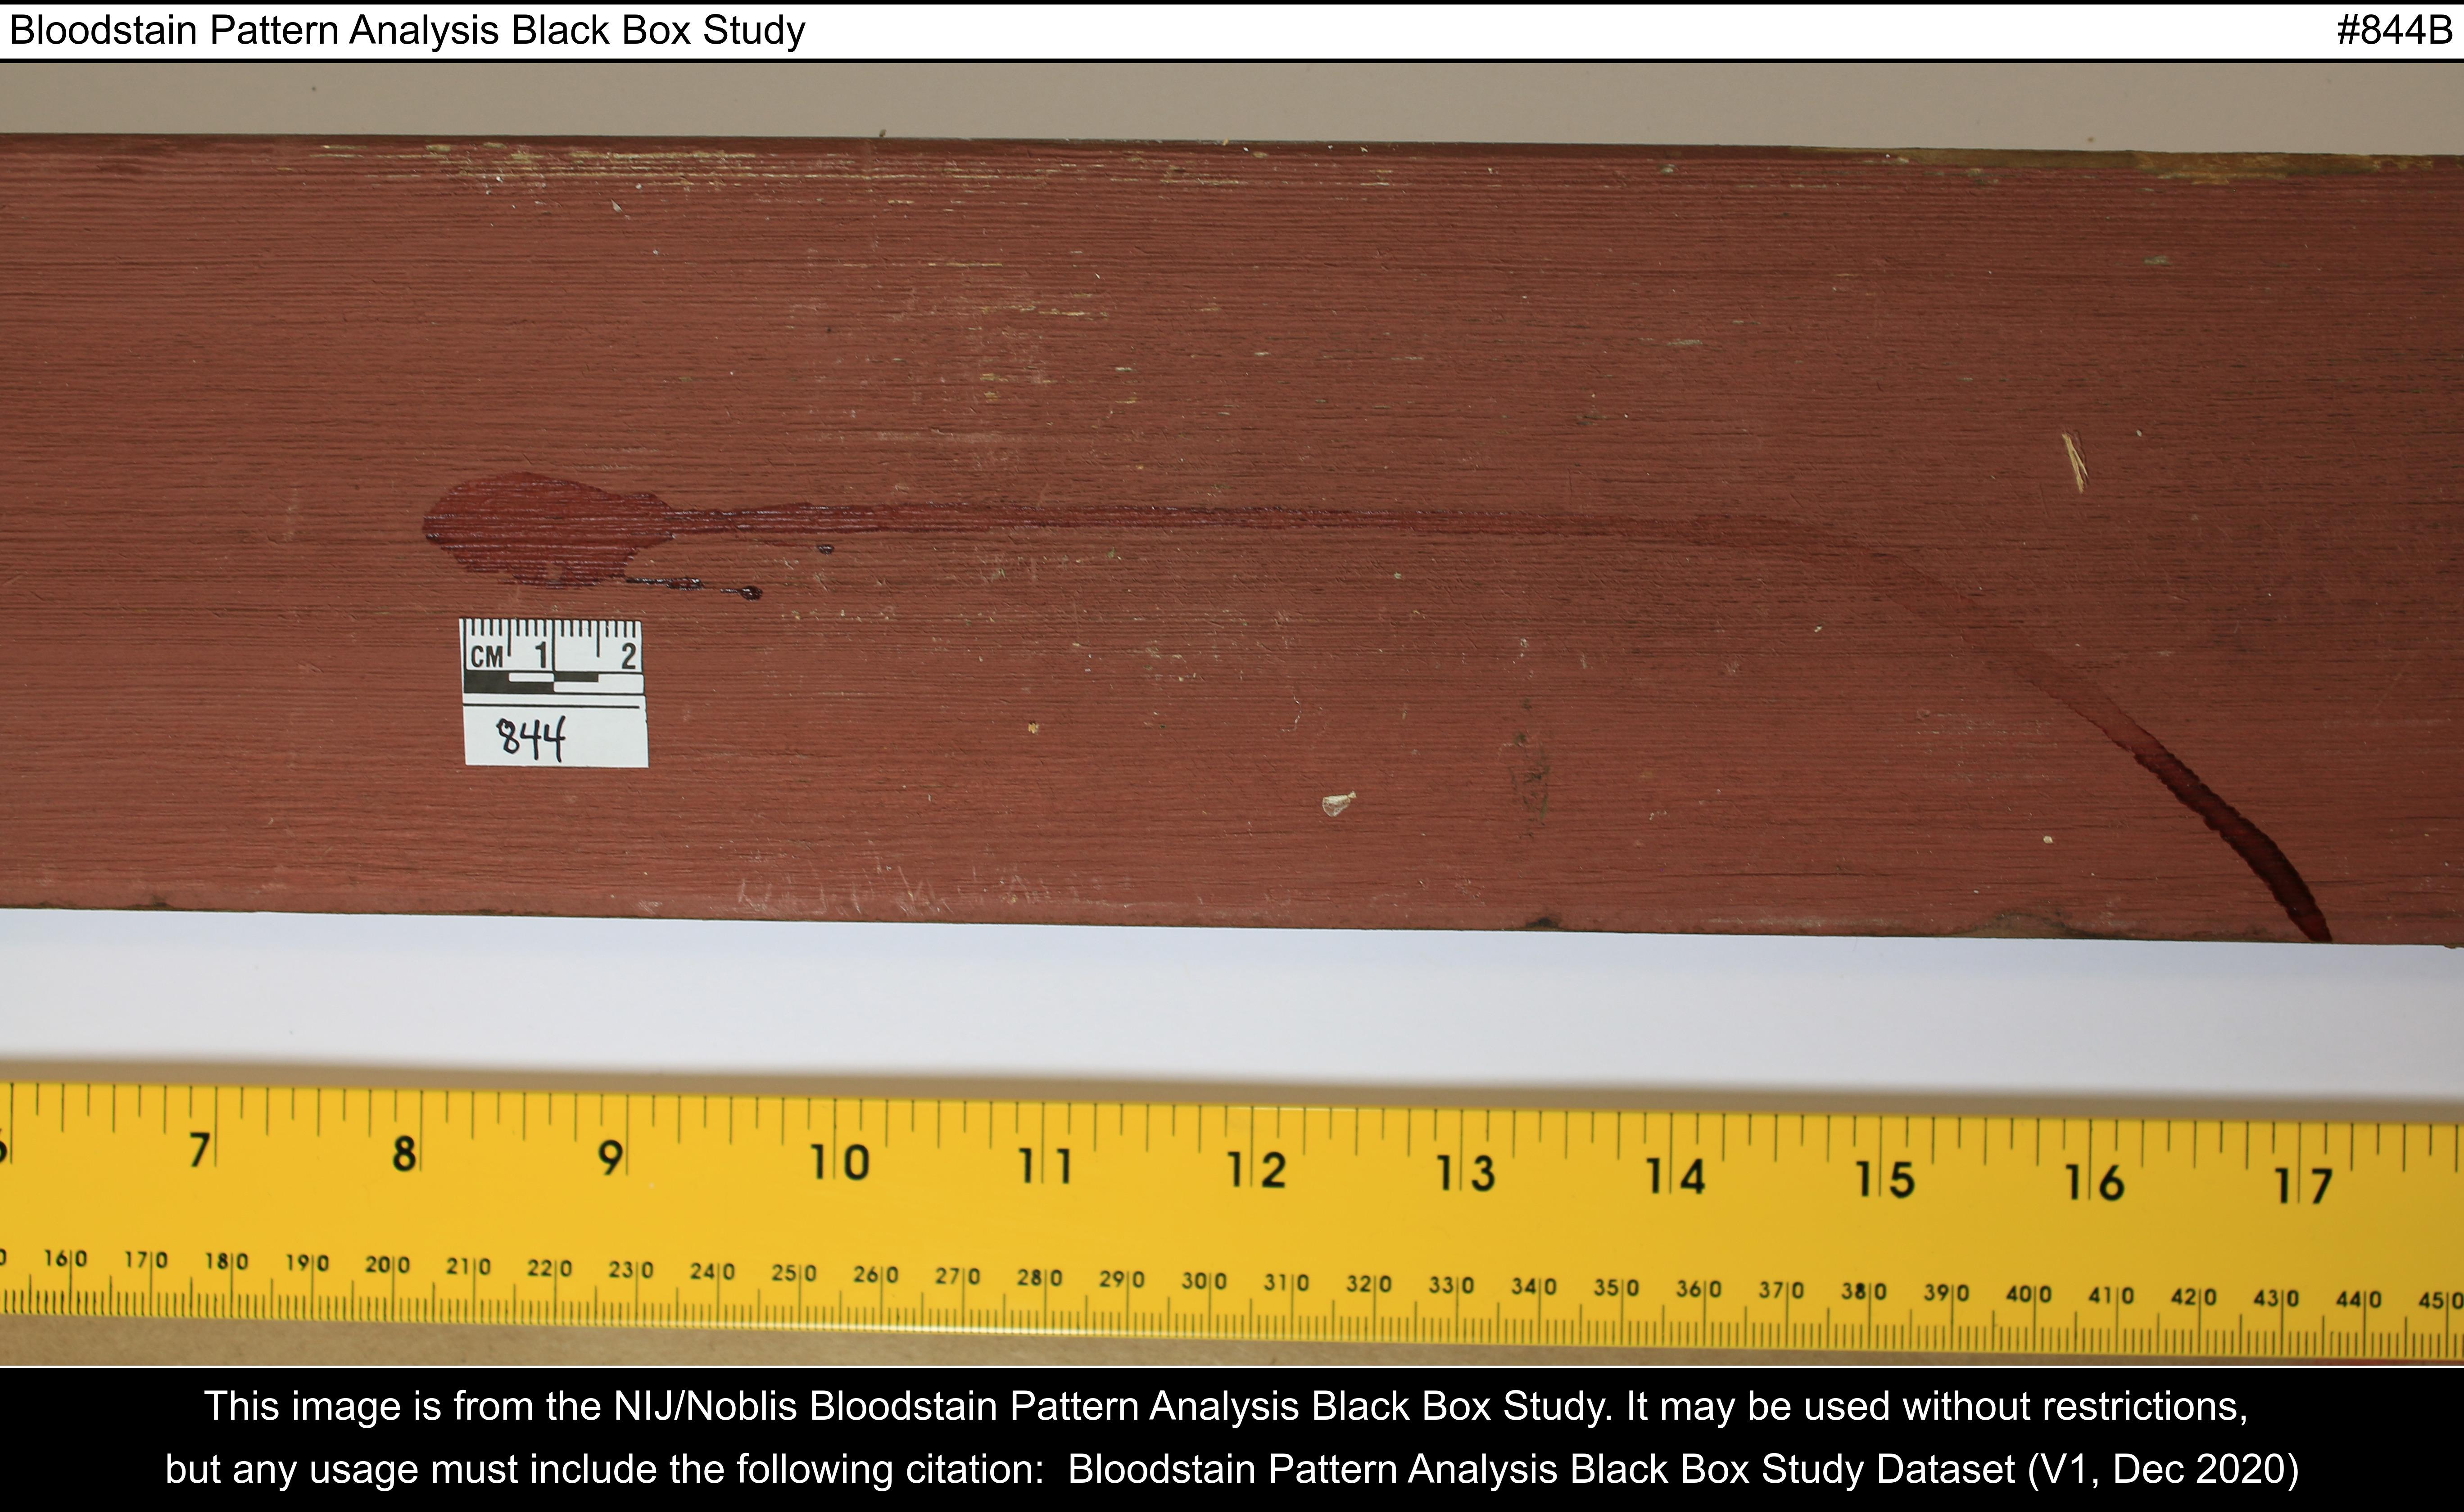Transfer: (377, 429, 2390, 936)
